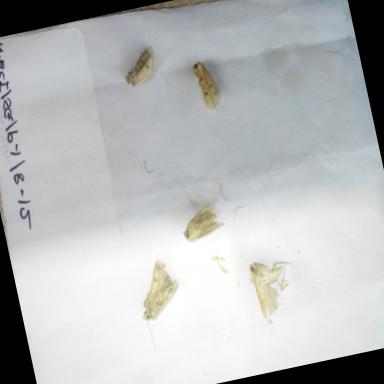abw: (240, 246, 306, 327), (130, 250, 190, 326), (186, 50, 230, 123), (116, 40, 169, 97), (175, 194, 227, 249)
